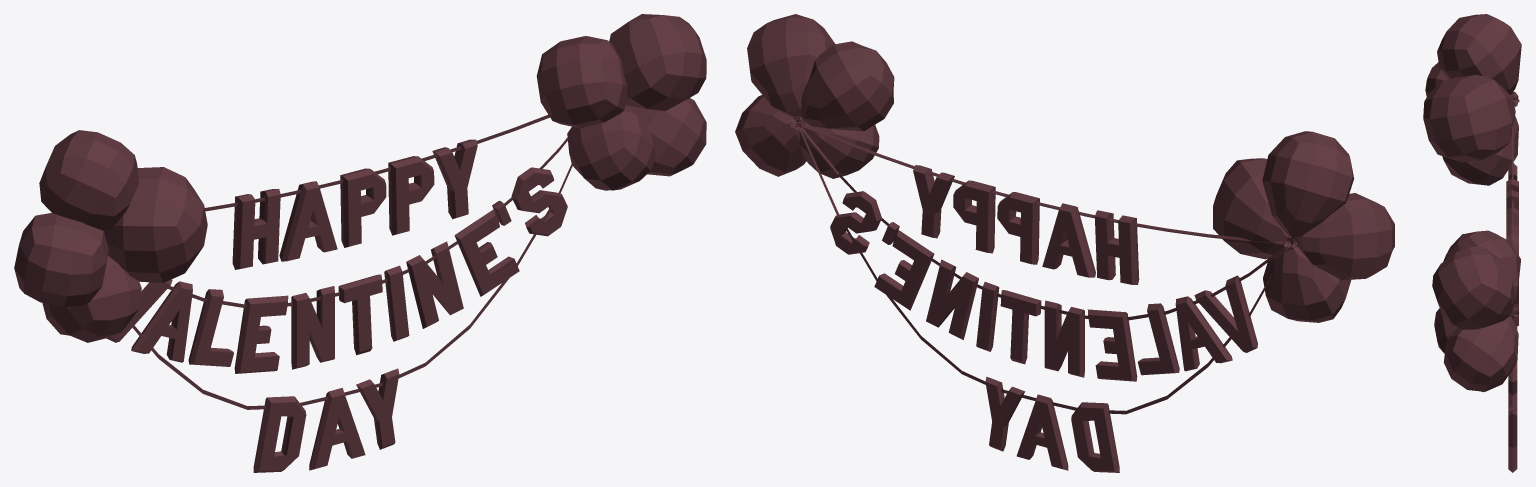
File: balloons-sign-happy-valentines-day.fbx
The picture shows the model from 3 angles, left to right: view 1: azimuth 30°, elevation 25°; view 2: azimuth 150°, elevation 25°; view 3: azimuth 270°, elevation 25°; orthographic projection. The views are drawn at different scales.
Parts seen in each view (by area): view 1: balloons-sign-happy-valentines-day; view 2: balloons-sign-happy-valentines-day; view 3: balloons-sign-happy-valentines-day.
Part boxes in pixels (x1,y1,x2,y2): balloons-sign-happy-valentines-day: [14, 14, 706, 472]; balloons-sign-happy-valentines-day: [735, 14, 1394, 472]; balloons-sign-happy-valentines-day: [1423, 14, 1521, 472].
Bounding box in the file's own units: 2.59 × 1.46 × 0.3934.
